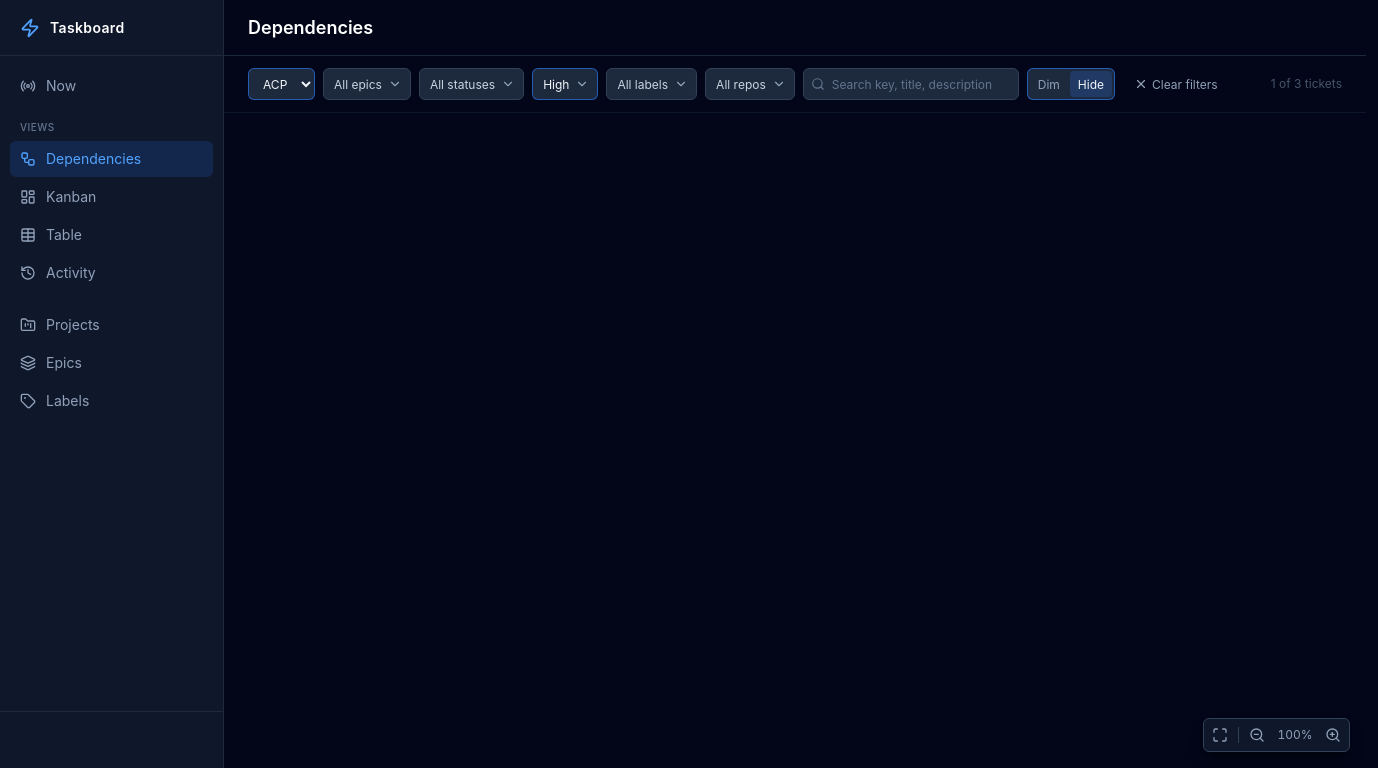
Test: Hide mode across the views › goes to Kanban and back with the filters, and is still picked on Dependencies
The width and height of the screenshot is (1378, 768).
expect the radio button labelled "Hide" is checked: met, box left=1070, top=71, right=1112, bottom=97
Click the link "Kanban" at [58, 196], box left=20, top=188, right=96, bottom=205
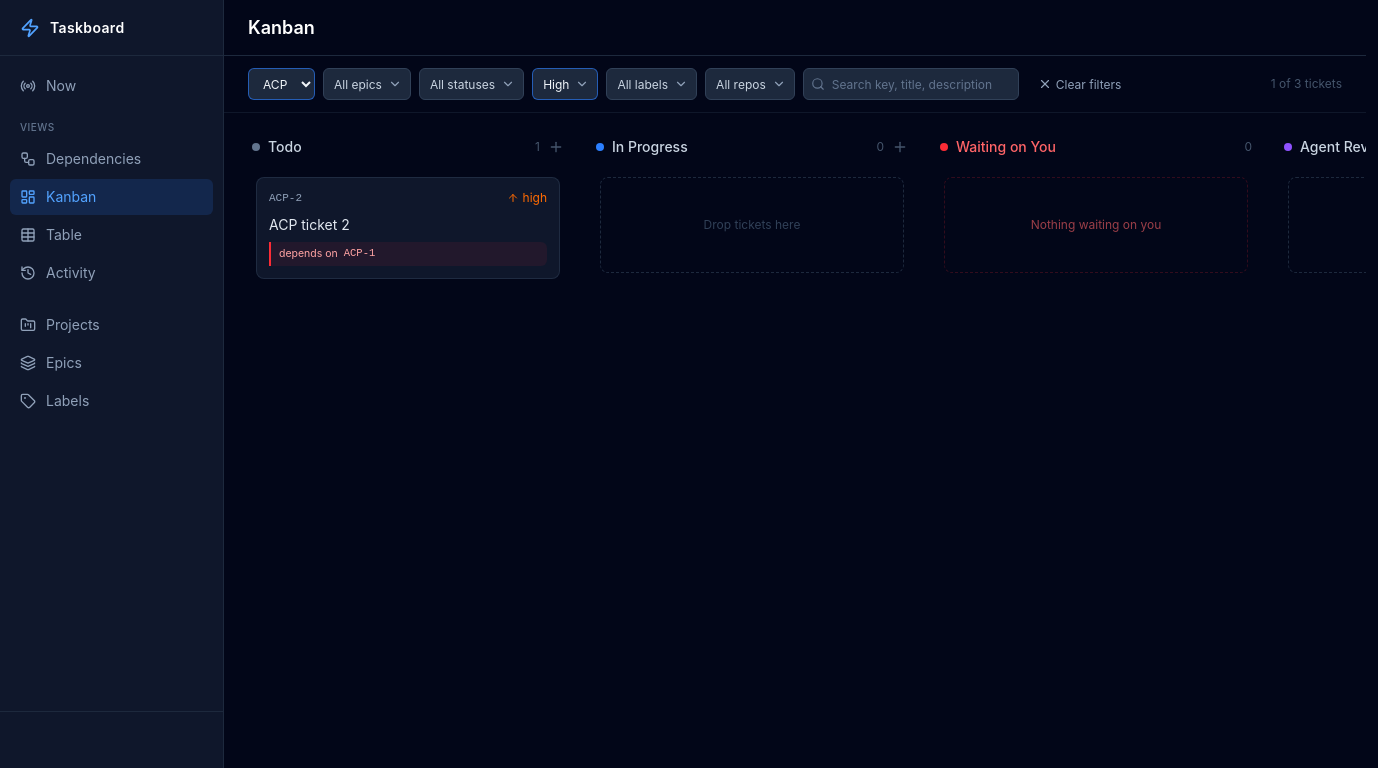
Click the link "Dependencies" at [81, 158], box left=20, top=150, right=141, bottom=167
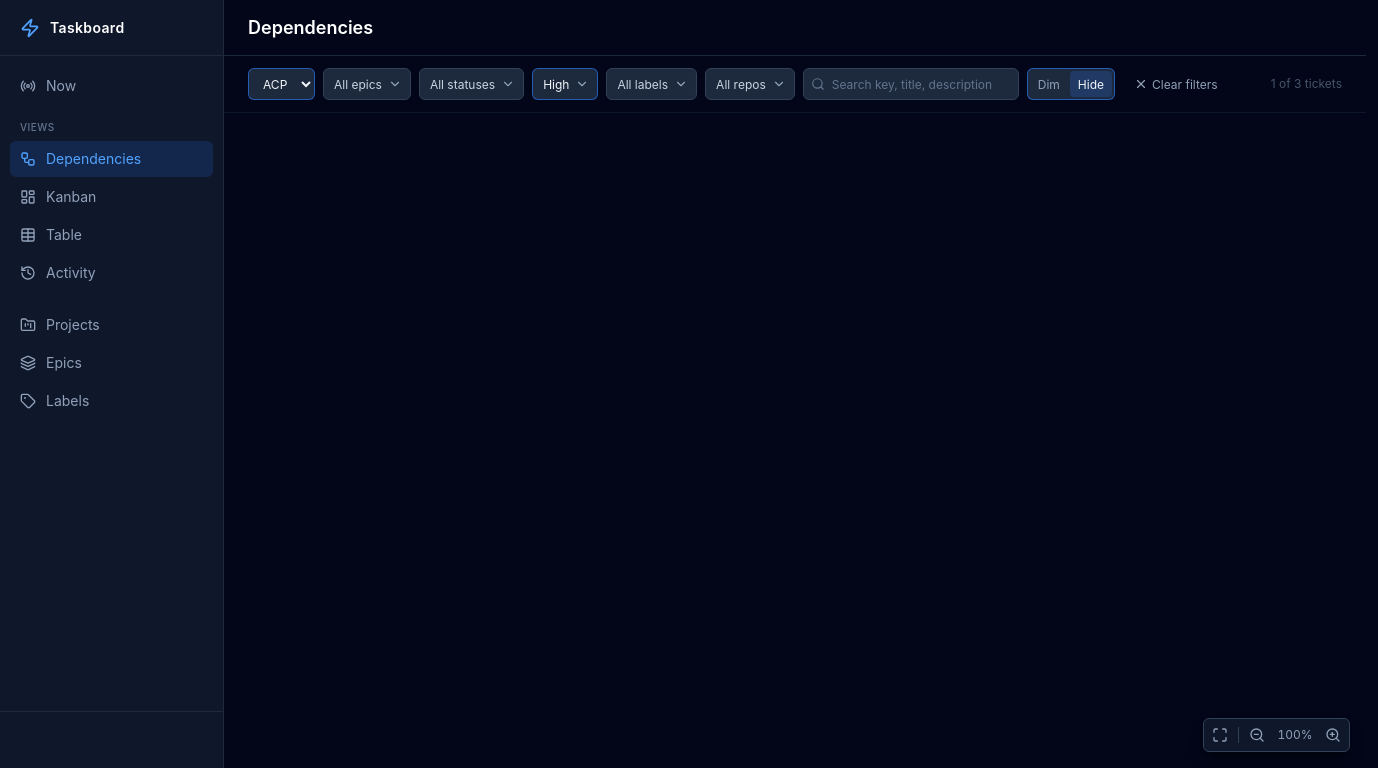
expect the radio button labelled "Hide" is checked: met, box left=1070, top=71, right=1112, bottom=97
expect the button "ACP-1 " is gone: met
